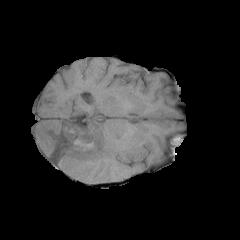glioma: (37, 118, 147, 175)
